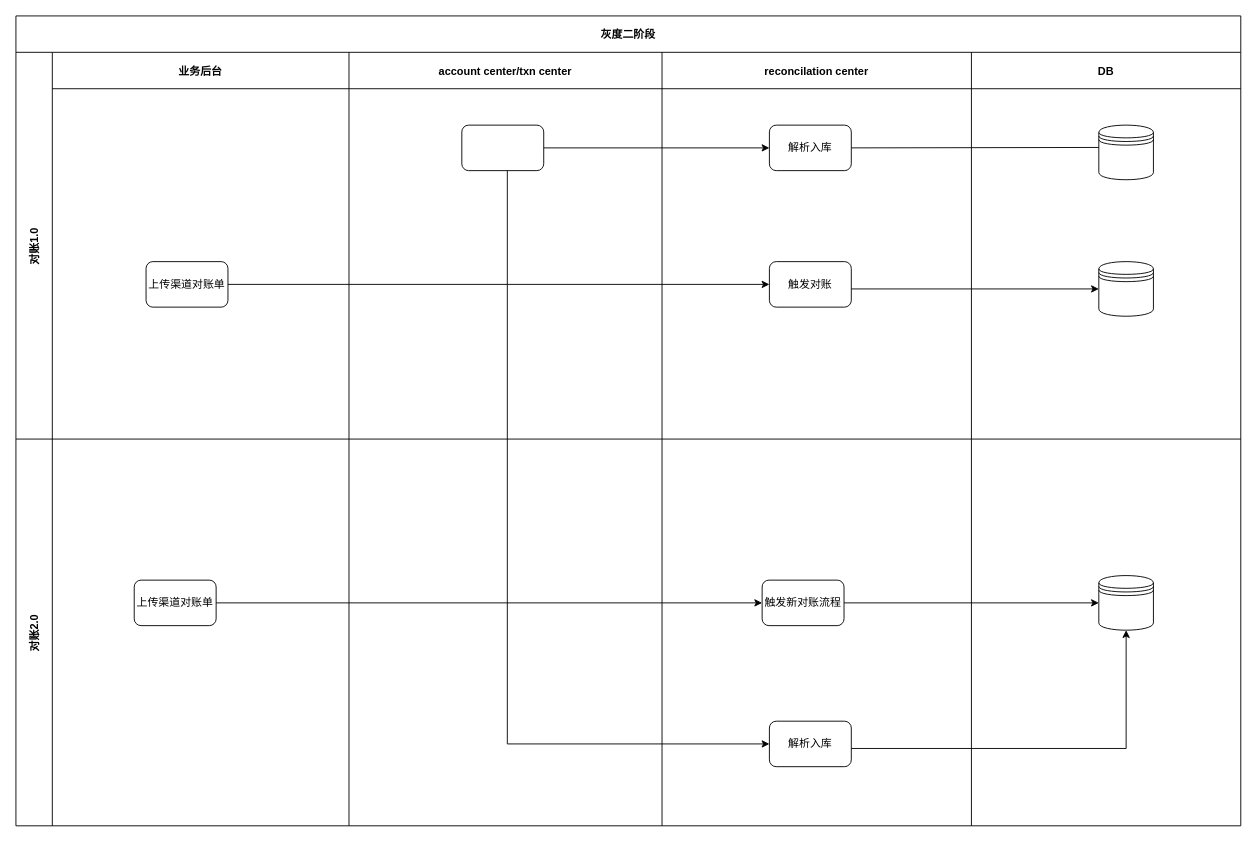
The diagram is 1257 pixels wide and 842 high, and some of its shapes have lost their labels. The centre of each missing label's shape, as x and y in pixels:
"aurora" goes at (1125,602).
"rds" goes at (1125,152).
"redshift" goes at (1125,288).
"同步palmpay侧流水" goes at (502,147).
